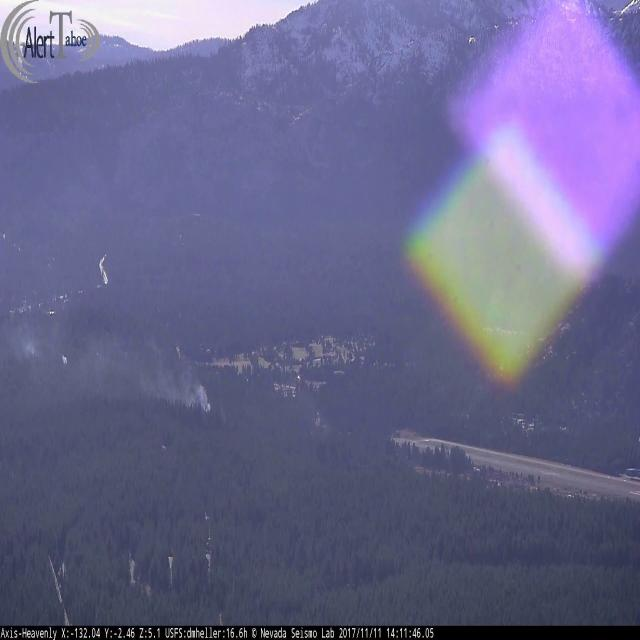smoke: (0, 285, 213, 411)
